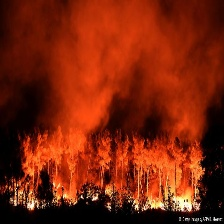fire: (5, 180, 205, 212)
smoke: (3, 1, 220, 136)
